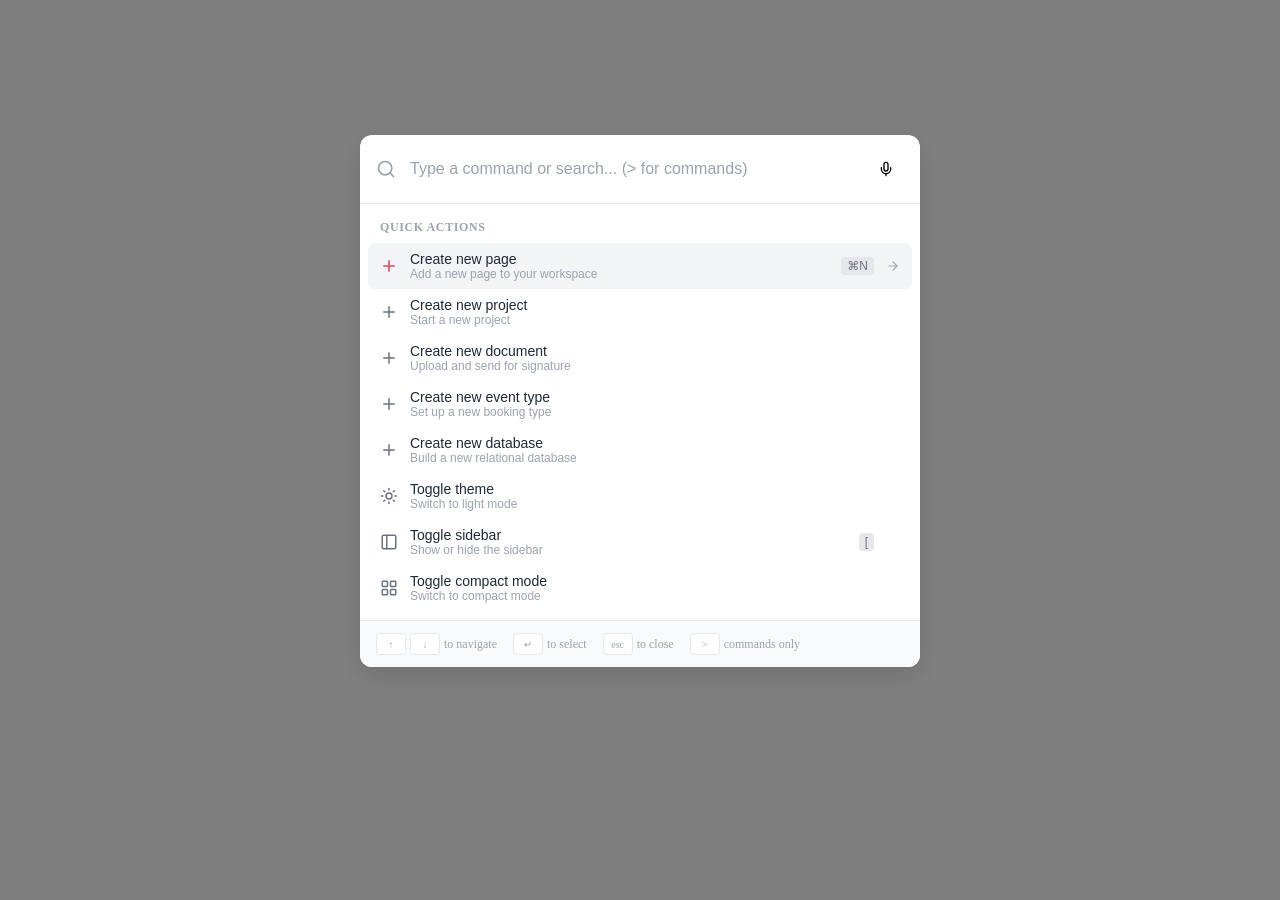
it: CommandPalette › filters commands on query input
Type "home" into the field with placeholder "Type a command or search... (> for commands)" at (632, 169), box [408,159,856,179]
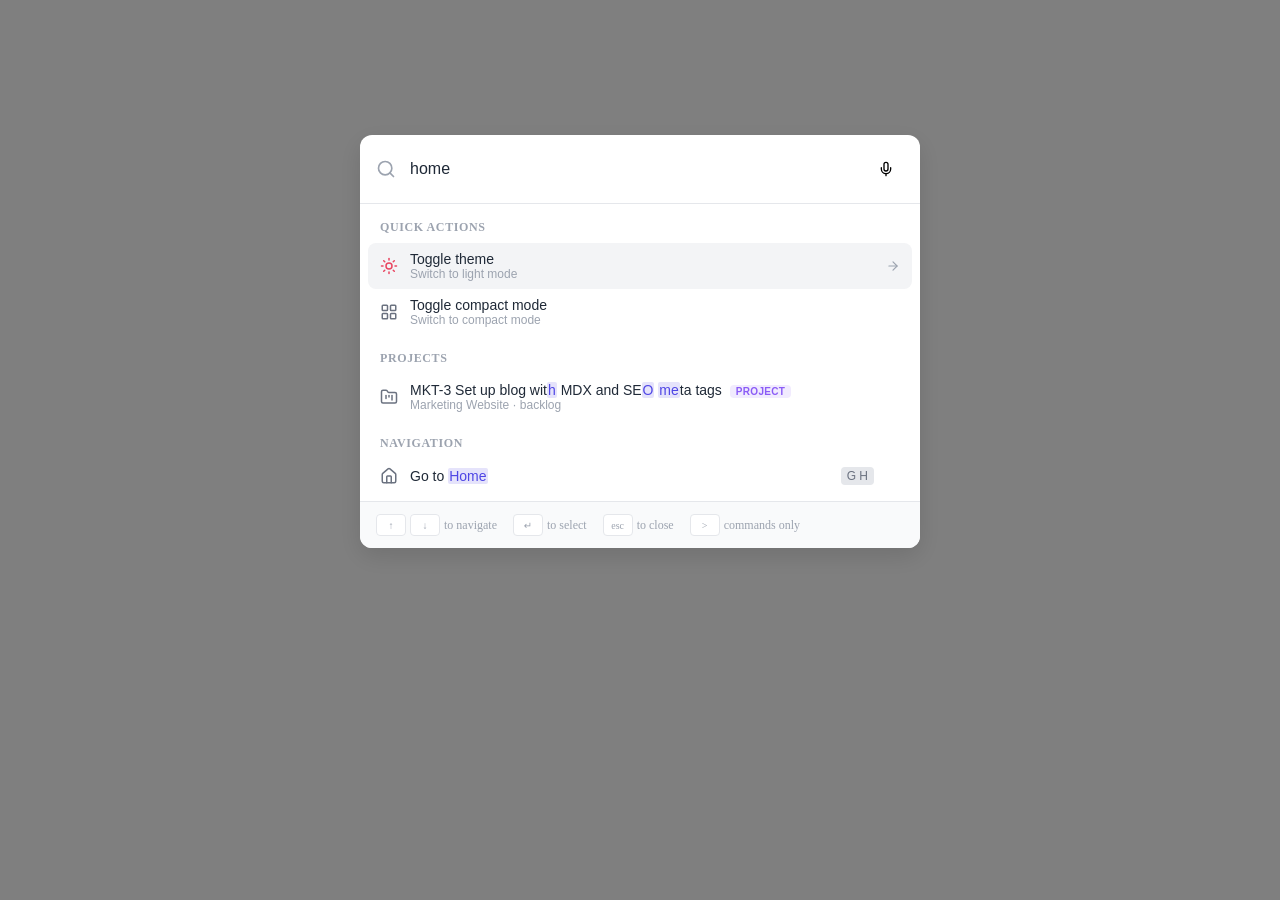
Expected: the text "Go to Calendar" is not shown
Expected: the text "Home" is shown, [448,468,488,484]
